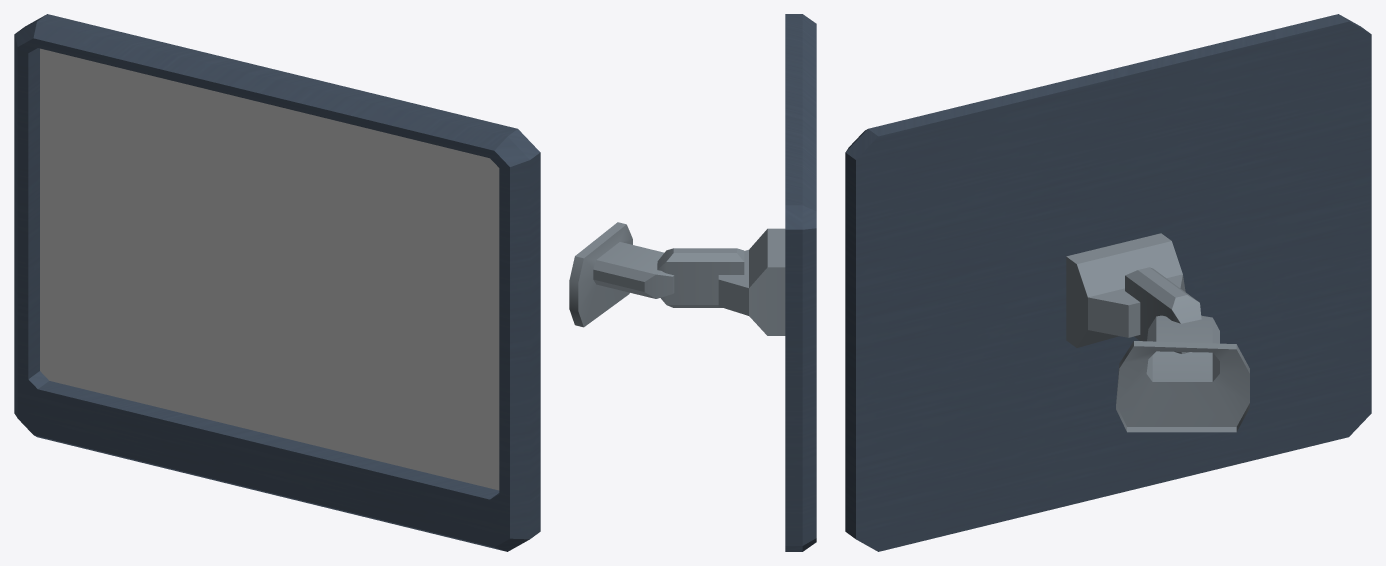
The model's file is Monitor2.fbx.
3 renders of one model, left to right at view 1: azimuth 30°, elevation 25°; view 2: azimuth 150°, elevation 25°; view 3: azimuth 270°, elevation 25°, orthographic. The views are drawn at different scales.
Parts seen in each view (by area): view 1: Monitor2Screen, Monitor2; view 2: Monitor2; view 3: Monitor2.
Boxes of the visible parts, bbox=[...] form: Monitor2Screen: bbox=[40, 48, 499, 490]; Monitor2: bbox=[14, 14, 540, 551]; Monitor2: bbox=[569, 14, 816, 551]; Monitor2: bbox=[845, 14, 1371, 551].
Size of the model in its own units: 107 by 124 by 142.
